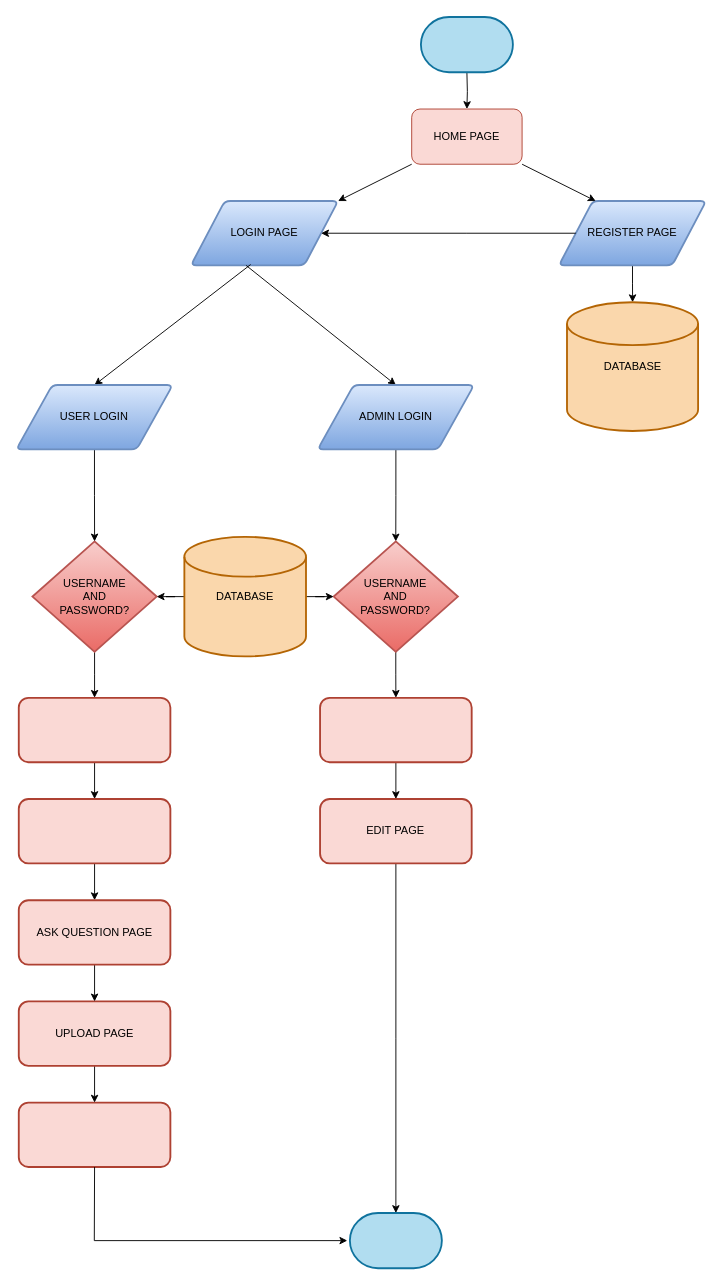
Some shapes in this 723 by 1284 pixel diagram are drawn without their labels. Here are the shapes that lost their labels. From the top down, the centre of each, then its label:
At pixel 466 44: "START".
At pixel 94 729: "DASHBOARD PAGE".
At pixel 395 729: "USERS PAGE".
At pixel 94 831: "CHITCHAT".
At pixel 94 1134: "USERCHAT PAGE".
At pixel 395 1240: "END".
